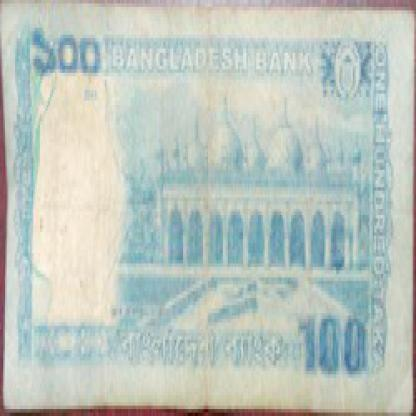one hundred taka: (292, 295, 370, 388), (30, 10, 106, 100)
